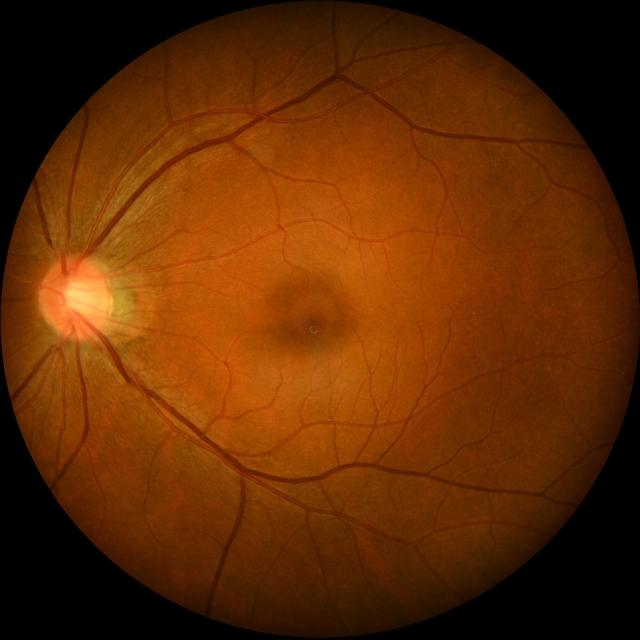OC: (62, 279, 99, 315)
OD: (39, 256, 112, 339)
